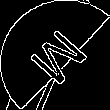M_SE: (19, 21, 91, 89)
